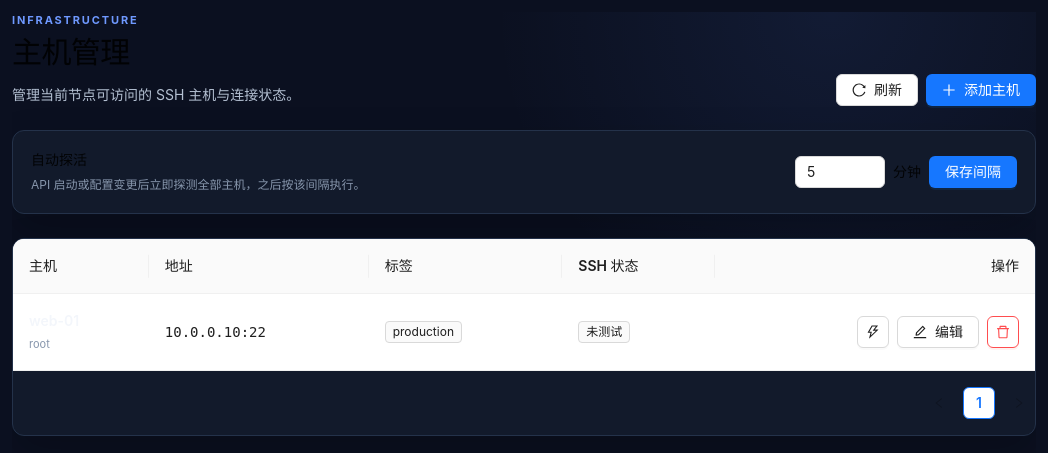
Scenario: loads and dynamically saves the global host probe interval
Replace the text in the number field named "探活间隔" with "10": (840, 172) [796, 157, 884, 187]
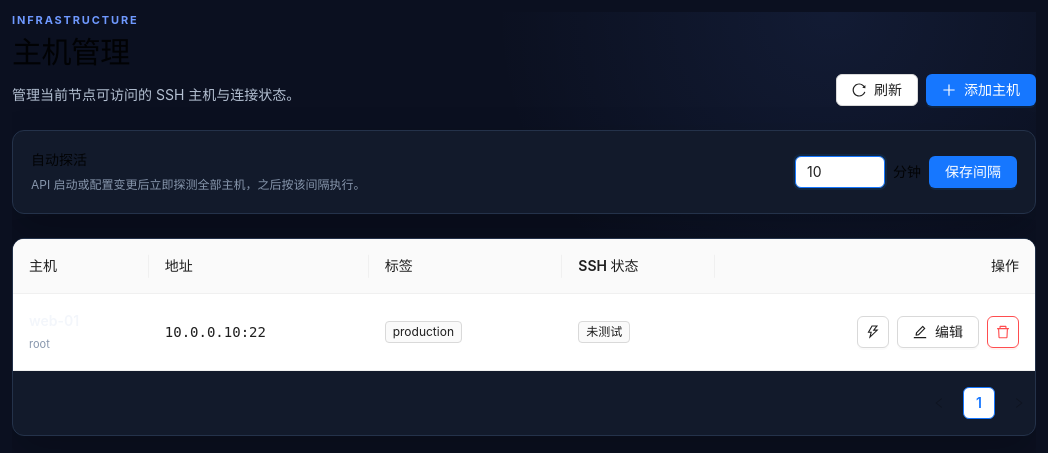
Click the button "保存间隔": (973, 172) [929, 156, 1017, 188]
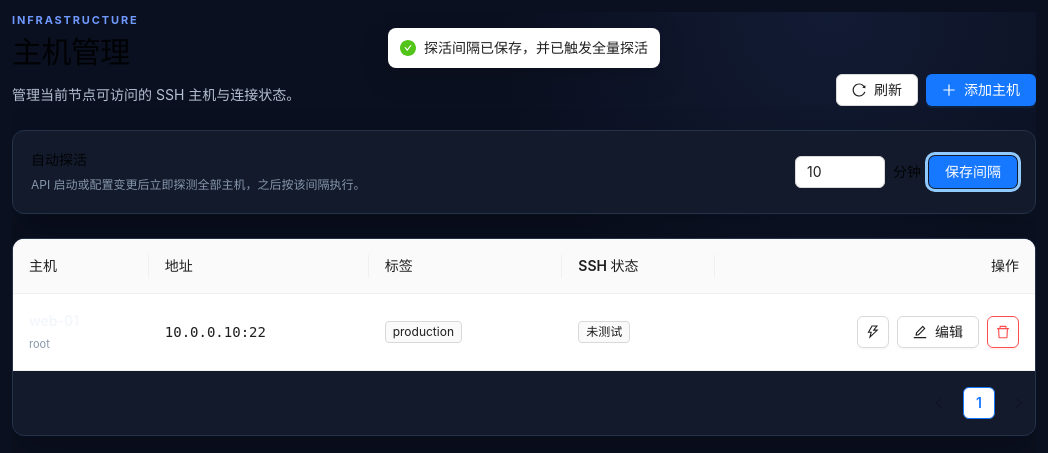
Check: the text "探活间隔已保存，并已触发全量探活" is shown, box [424, 37, 648, 59]
